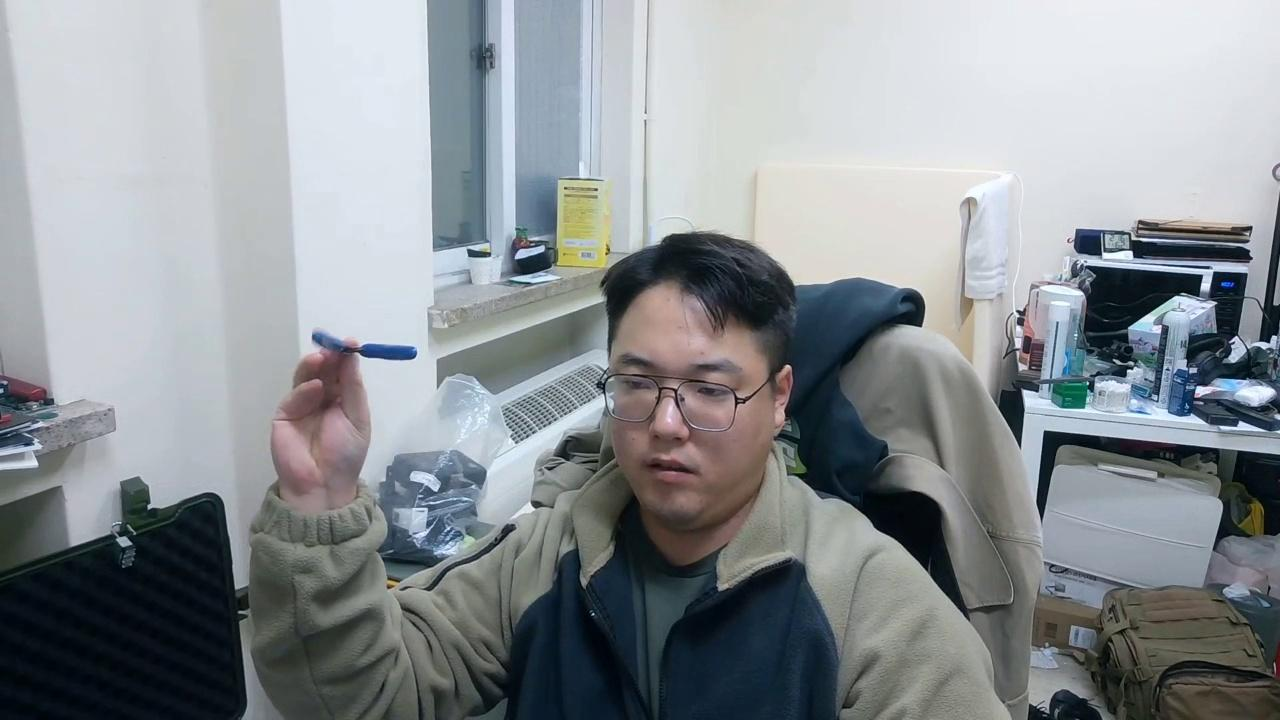blue_pliers: (312, 329, 420, 363)
